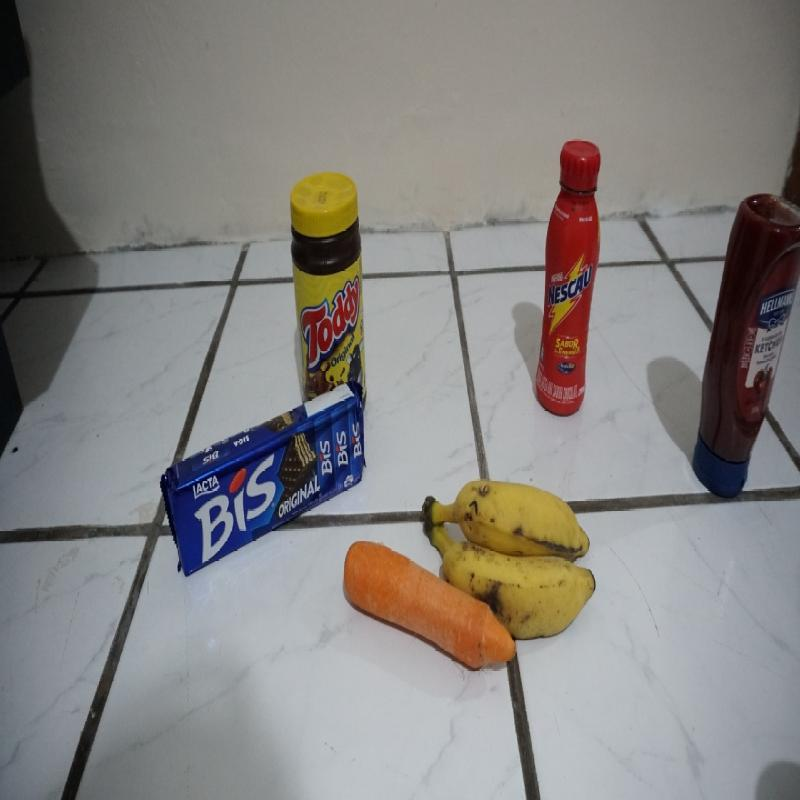Banana: (433, 477, 595, 598)
Carrot: (340, 539, 432, 636)
Chocolate Milk: (534, 134, 602, 418)
Chocolate Powder: (286, 175, 366, 374)
Ketchup: (691, 186, 799, 494)
